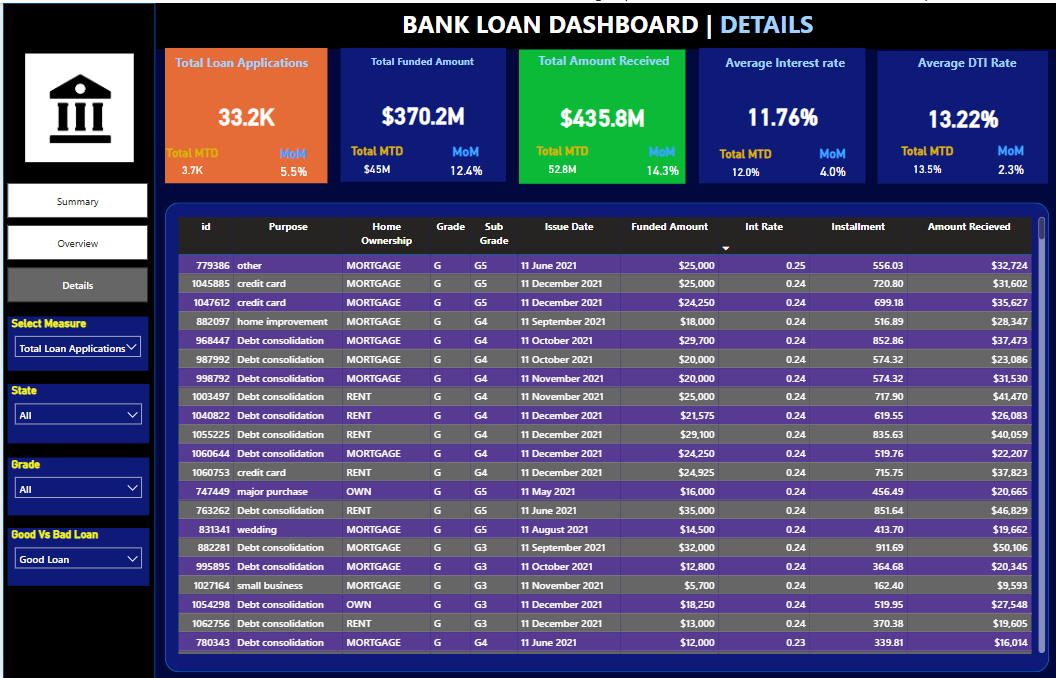

What the dashboard file says about the page in this screenshot:
{"tool":"powerbi","page":{"name":"Details","canvas":[1400,900],"ordinal":2},"visuals":[{"type":"textbox","box":[201.9,0,1197.6,61.6],"z":0},{"type":"shape","box":[0,0,201.9,1000.8],"z":1000},{"type":"card","fields":{"Values":["financial_loan_full.Total Loan Applications"]},"box":[213.8,59.9,215.6,179.6],"z":2000},{"type":"textbox","box":[201.9,61.6,227.5,42.8],"z":3000},{"type":"card","title":"Total MTD ","fields":{"Values":["financial_loan_full.MTD Loan Application"]},"box":[201.7,188.3,100,50],"z":4000},{"type":"card","title":"MoM ","fields":{"Values":["financial_loan_full.MoM Loan Applications"]},"box":[325,188.3,121.7,50],"z":5000},{"type":"card","fields":{"Values":["financial_loan_full.Total Funded Amount"]},"box":[446.9,59.7,219.3,177.2],"z":6000},{"type":"textbox","box":[445.6,61.4,221.1,42.1],"z":7000},{"type":"card","title":"Total MTD ","fields":{"Values":["financial_loan_full.MTD Funded Amount"]},"box":[447.4,187.7,96.5,50.9],"z":8000},{"type":"card","title":"MoM ","fields":{"Values":["financial_loan_full.MoM Funded Amount"]},"box":[557.7,186.5,109.5,51.3],"z":9000},{"type":"card","fields":{"Values":["financial_loan_full.Total Recieved Amount"]},"box":[683.6,61.6,220.7,177.9],"z":10000},{"type":"textbox","box":[686,59.9,220.7,44.5],"z":11000},{"type":"card","title":"Total MTD ","fields":{"Values":["financial_loan_full.MTD Received Amount"]},"box":[691.2,186,98.2,50.9],"z":12000},{"type":"card","fields":{"Values":["financial_loan_full.Averege Interest Rate"]},"box":[921.8,59.9,220.7,179.6],"z":13000},{"type":"card","title":"MoM ","fields":{"Values":["financial_loan_full.MoM Received Amount"]},"box":[814,186,121.1,50.9],"z":14000},{"type":"textbox","box":[929,61.6,220.7,54.7],"z":15000},{"type":"card","title":"Total MTD ","fields":{"Values":["financial_loan_full.MTD Interest Rate Average"]},"box":[929,189.9,111.2,49.6],"z":16000},{"type":"card","title":"MoM ","fields":{"Values":["financial_loan_full.MoM Average Interest Rate"]},"box":[1040.2,188.2,119.8,49.6],"z":17000},{"type":"card","fields":{"Values":["financial_loan_full.Average DTI"]},"box":[1159.9,63.3,225.8,176.2],"z":18000},{"type":"textbox","box":[1171.9,61.6,213.8,42.8],"z":19000},{"type":"image","box":[0,62,202,154],"z":20000},{"type":"card","title":"Total MTD ","fields":{"Values":["financial_loan_full.MTD Average DTI Rate"]},"box":[1171.9,186.5,107.8,49.6],"z":21000},{"type":"card","title":"MoM ","fields":{"Values":["financial_loan_full.MoM Average DTI"]},"box":[1286.5,184.8,99.2,53],"z":22000},{"type":"slicer","title":"State","fields":{"Values":["financial_loan_full.address_state"]},"box":[6.8,505.5,188.2,78.7],"z":23000},{"type":"slicer","title":"Grade","fields":{"Values":["financial_loan_full.grade"]},"box":[6.8,601.8,188.2,77],"z":24000},{"type":"slicer","title":"Good Vs Bad Loan","fields":{"Values":["financial_loan_full.Good Loan Vs Bad Loan"]},"box":[5.1,696.3,188.2,77],"z":25000},{"type":"slicer","title":"Select Measure","fields":{"Values":["Select Measure.Select Measure"]},"box":[6.8,416.2,186.5,71.9],"z":26000},{"type":"shape","box":[213.8,265.2,1171.9,622.7],"z":27000},{"type":"tableEx","fields":{"Values":["financial_loan_full.id","financial_loan_full.purpose","financial_loan_full.home_ownership","financial_loan_full.grade","financial_loan_full.sub_grade","financial_loan_full.issue_date","financial_loan_full.Total Funded Amount","Sum(financial_loan_full.int_rate)","Sum(financial_loan_full.installment)","financial_loan_full.Total Recieved Amount"]},"box":[225.8,278.9,1159.9,588.5],"z":28000},{"type":"pageNavigator","box":[6.8,237.8,186.5,160.8],"z":29000}]}

Visuals, with their boxes in screenshot pixels (x1, y1, x2, y2), scaled from the page's 1400x900 canvas onto the 1056x678 screenshot:
textbox: box=[152, 0, 1055, 46]
shape: box=[0, 0, 152, 677]
card - financial_loan_full.Total Loan Applications: box=[161, 45, 324, 180]
textbox: box=[152, 46, 324, 79]
"Total MTD " card: box=[152, 142, 228, 180]
"MoM " card: box=[245, 142, 337, 180]
card - financial_loan_full.Total Funded Amount: box=[337, 45, 503, 178]
textbox: box=[336, 46, 503, 78]
"Total MTD " card: box=[337, 141, 410, 180]
"MoM " card: box=[421, 140, 503, 179]
card - financial_loan_full.Total Recieved Amount: box=[516, 46, 682, 180]
textbox: box=[517, 45, 684, 79]
"Total MTD " card: box=[521, 140, 595, 178]
card - financial_loan_full.Averege Interest Rate: box=[695, 45, 862, 180]
"MoM " card: box=[614, 140, 705, 178]
textbox: box=[701, 46, 867, 88]
"Total MTD " card: box=[701, 143, 785, 180]
"MoM " card: box=[785, 142, 875, 179]
card - financial_loan_full.Average DTI: box=[875, 48, 1045, 180]
textbox: box=[884, 46, 1045, 79]
image: box=[0, 47, 152, 163]
"Total MTD " card: box=[884, 140, 965, 178]
"MoM " card: box=[970, 139, 1045, 179]
"State" slicer: box=[5, 381, 147, 440]
"Grade" slicer: box=[5, 453, 147, 511]
"Good Vs Bad Loan" slicer: box=[4, 525, 146, 583]
"Select Measure" slicer: box=[5, 314, 146, 368]
shape: box=[161, 200, 1045, 669]
tableEx - financial_loan_full.id x financial_loan_full.purpose: box=[170, 210, 1045, 653]
pageNavigator: box=[5, 179, 146, 300]
